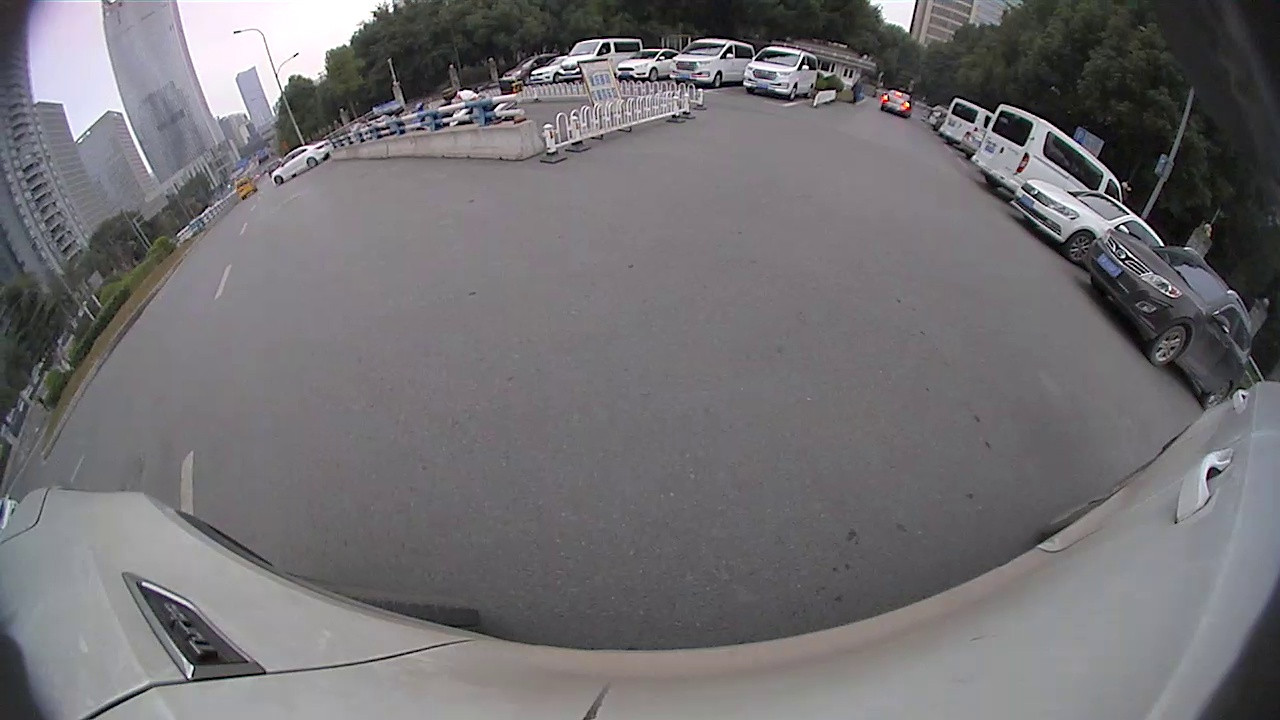car: (1083, 226, 1266, 414), (969, 102, 1128, 205), (1010, 175, 1167, 268), (741, 43, 821, 101), (670, 38, 757, 88), (555, 37, 645, 84), (269, 139, 333, 189), (939, 96, 995, 153), (613, 47, 685, 84)
front: (1148, 322, 1188, 369), (1063, 229, 1098, 266), (788, 84, 799, 102), (648, 68, 660, 82), (713, 73, 722, 90), (273, 175, 284, 185)
rear: (1200, 378, 1233, 412), (306, 157, 319, 168)
